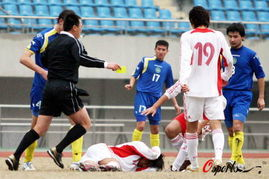fall: (71, 134, 168, 174)
